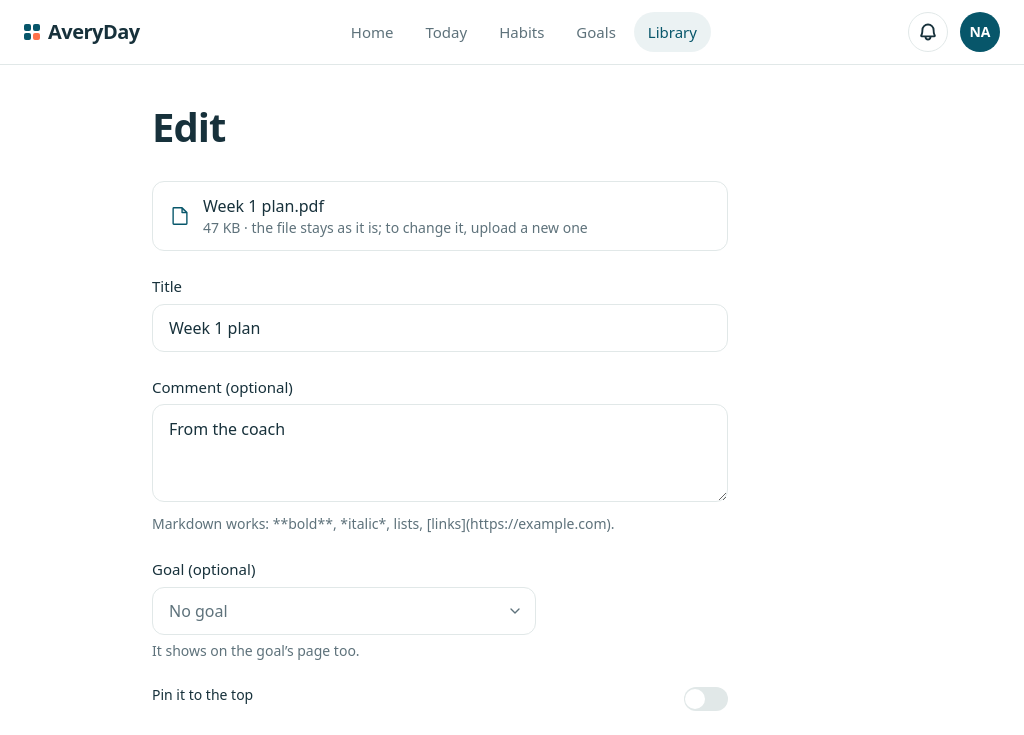
Test: editing a file › keeps the file and its kind, and sends a FILE replace
Expected: the text "Week 1 plan.pdf" is shown, [203,195,324,217]
Type "Week one" into the field labelled "Title".
click(440, 328); type("Week one")  # box [152,304,728,352]
(page scrolled)
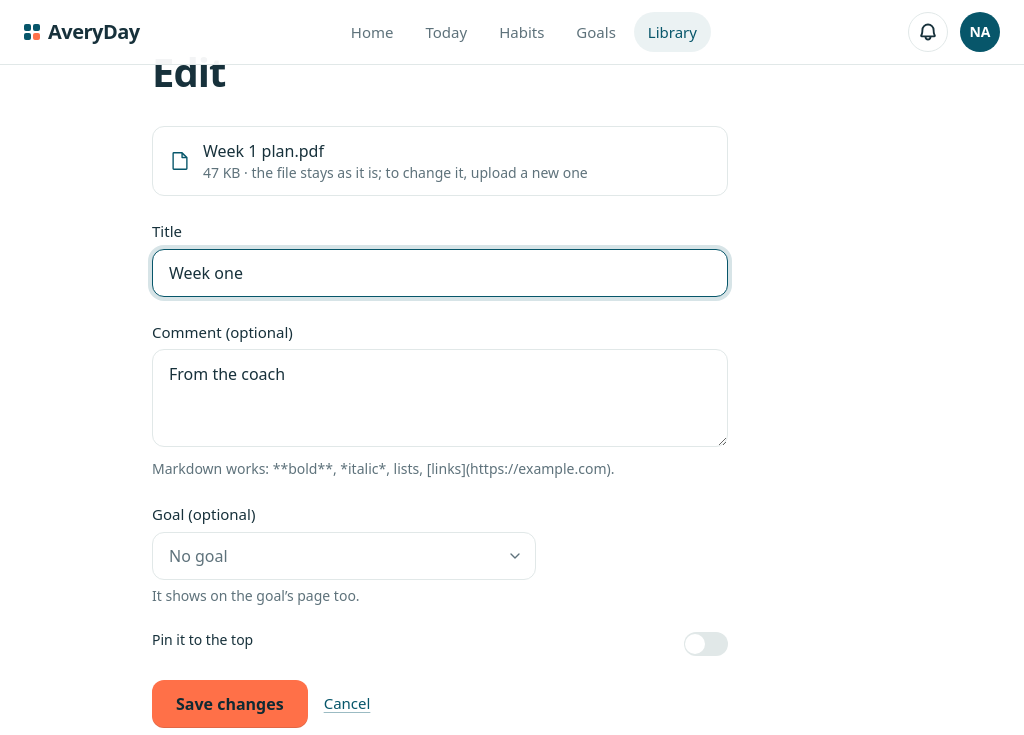
Click the button "Save changes".
click(230, 704)  # box [152,680,308,728]
(page scrolled)
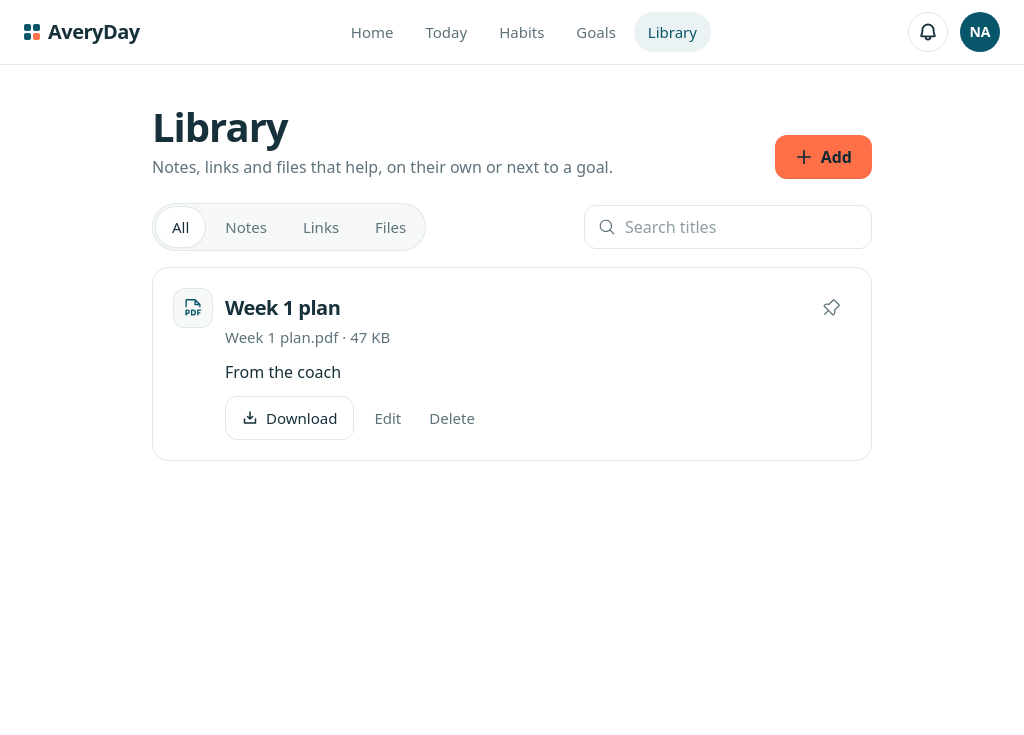
Now the heading "Library" is shown, box [152,99,288,154]
